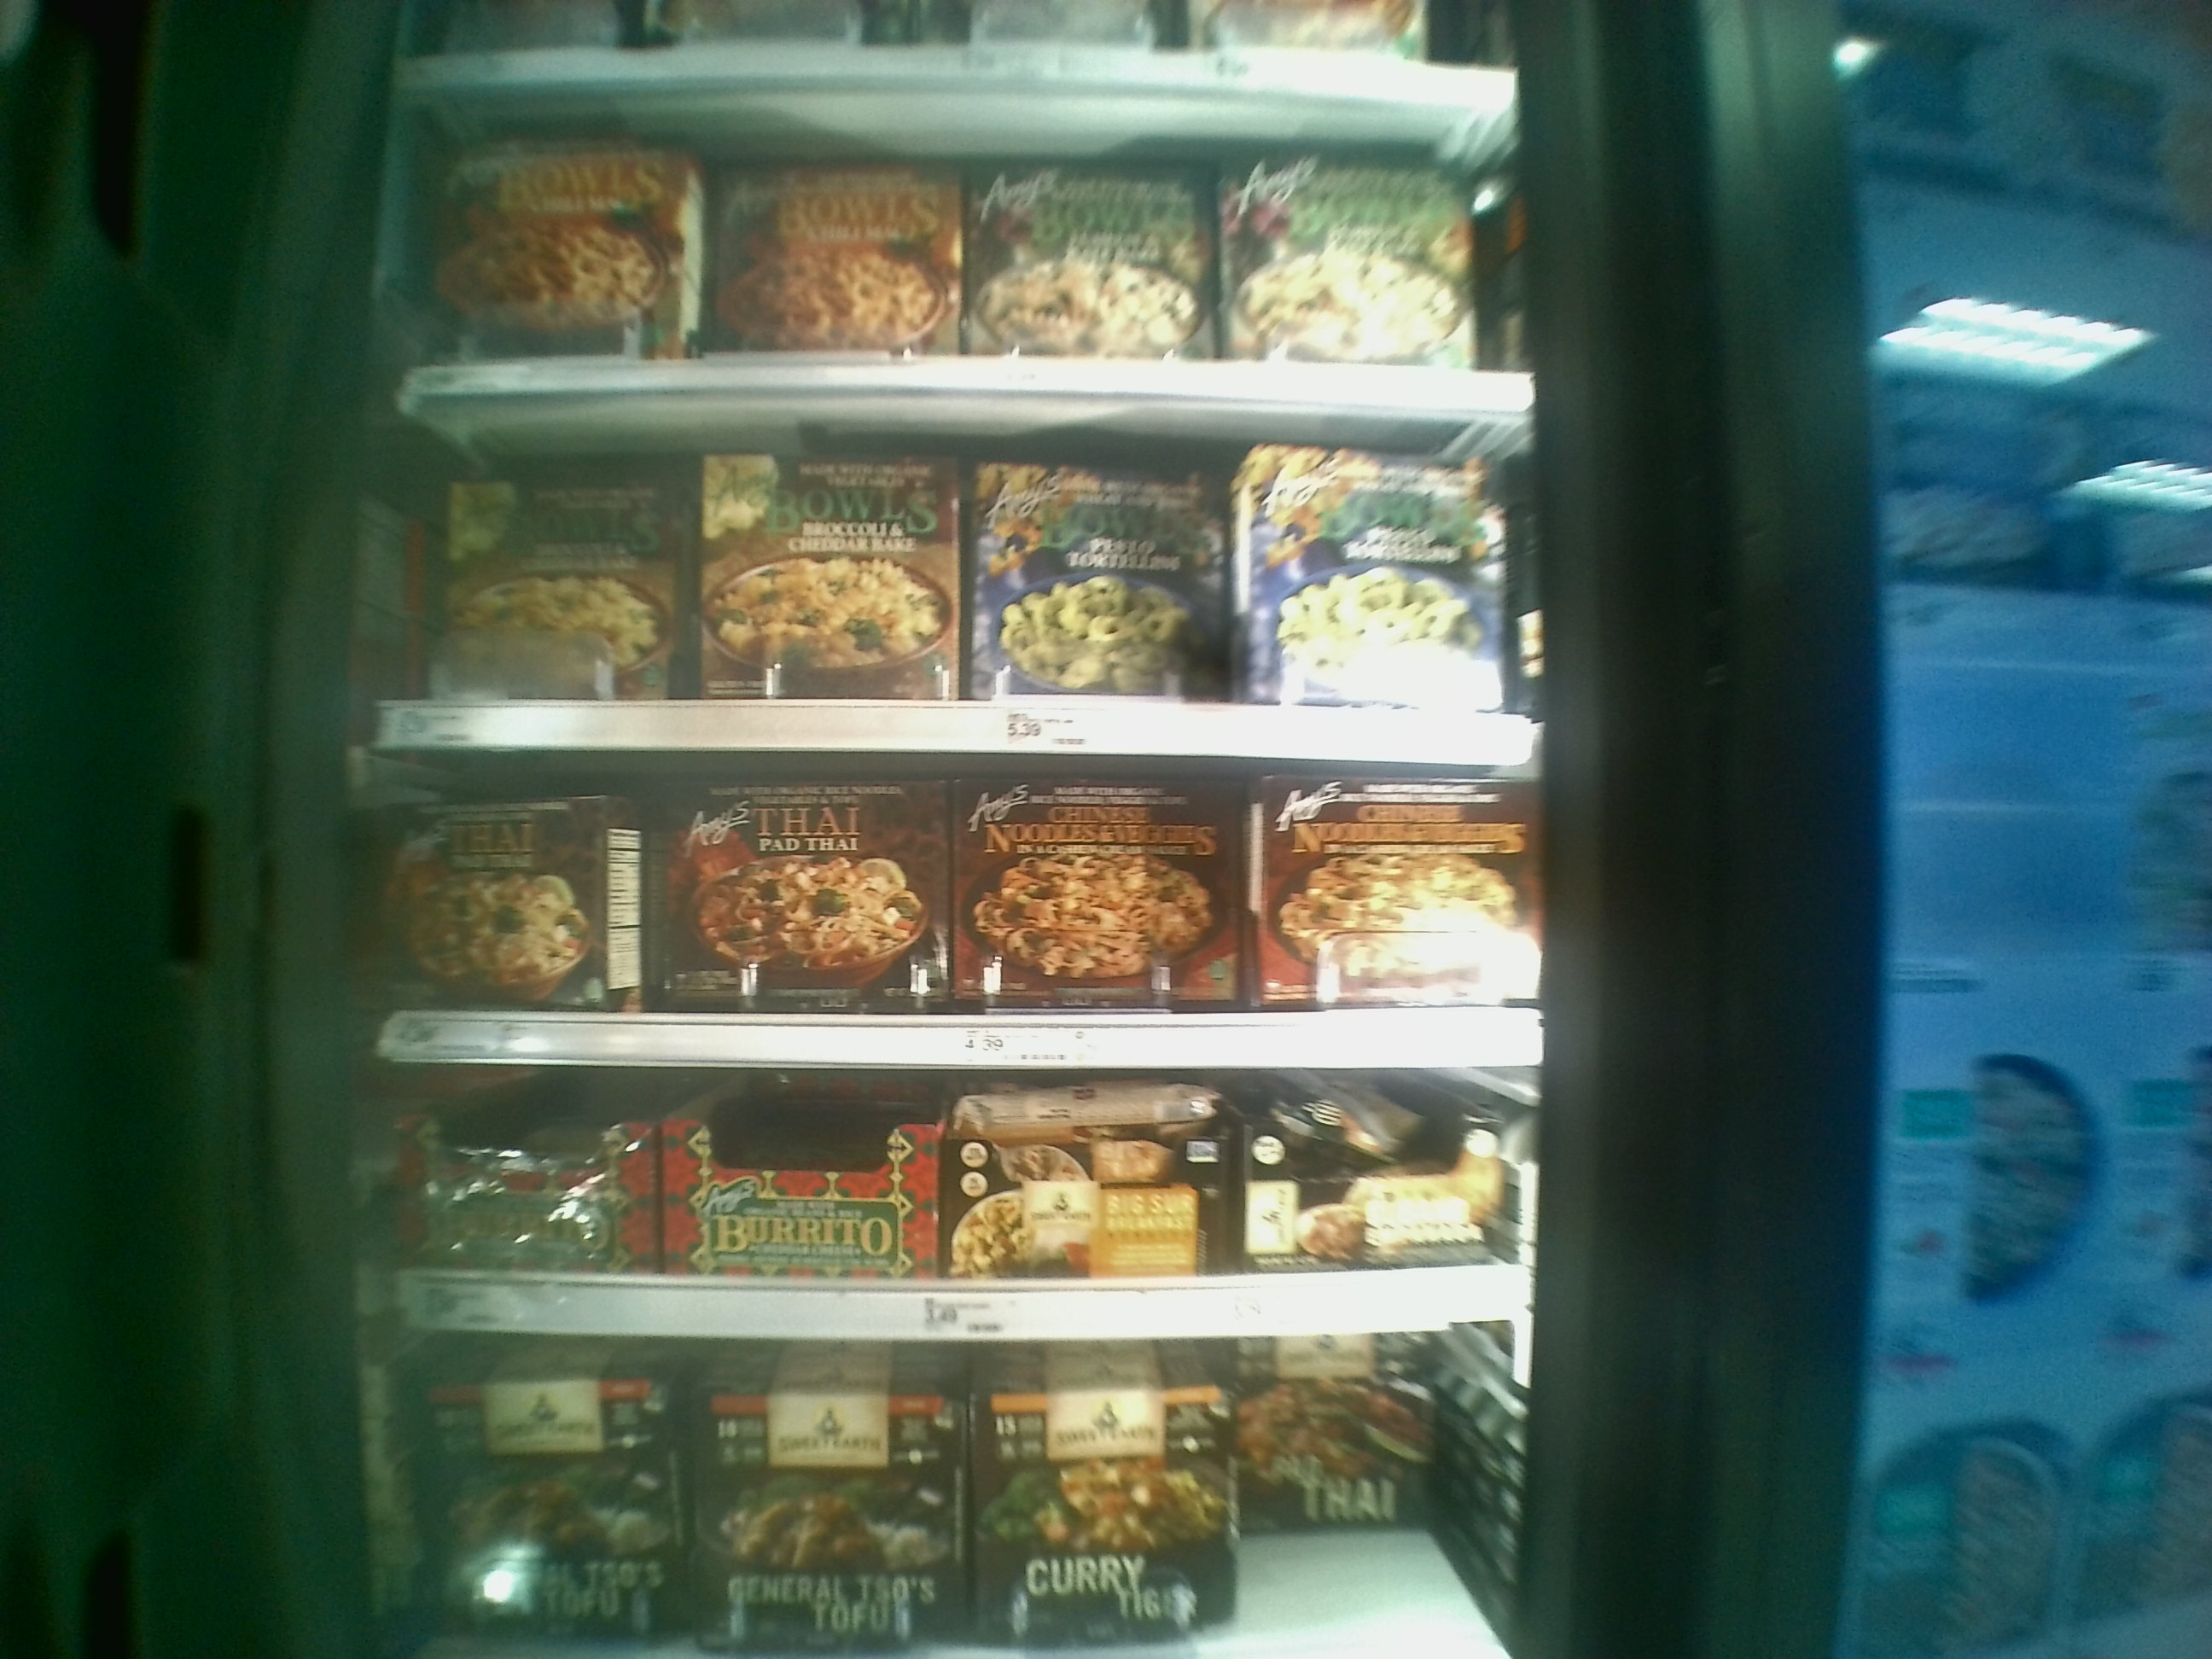frozen-food-shelf: (261, 415, 1555, 772), (263, 774, 1554, 1075), (261, 1079, 1554, 1345)
